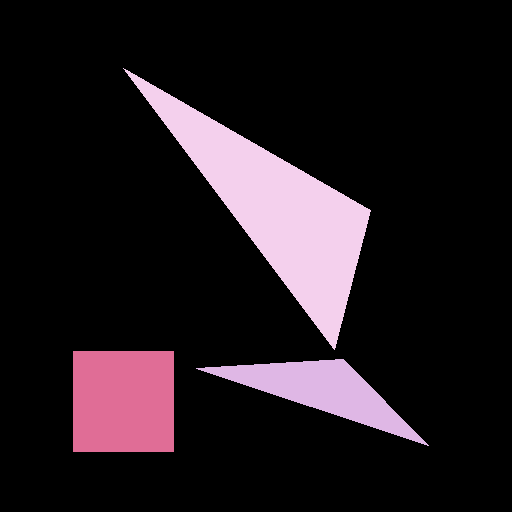square: (73, 351, 173, 451)
triangle: (123, 68, 370, 349), (196, 359, 428, 445)
